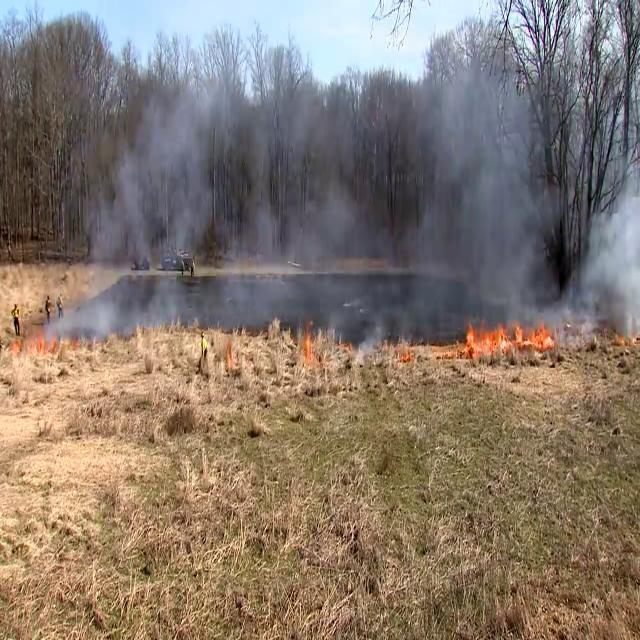Fire: (465, 313, 555, 358), (11, 329, 61, 354), (299, 320, 313, 361)
